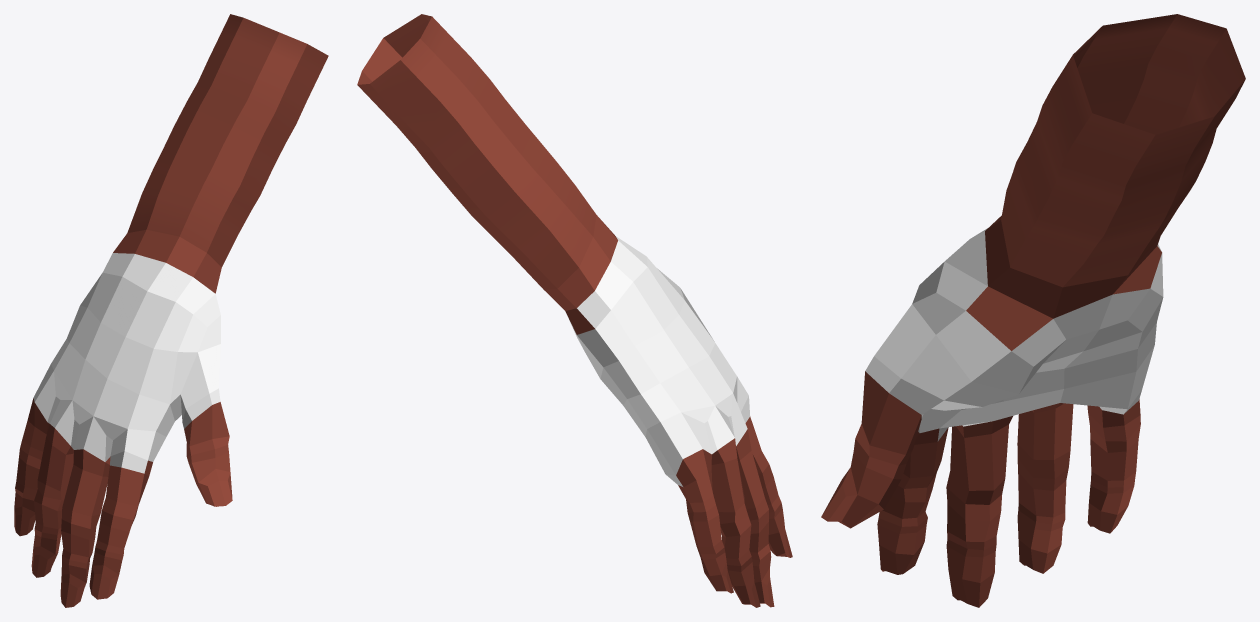
Rendered from hand_l.obj.
The picture shows the model from 3 angles, left to right: view 1: azimuth 30°, elevation 25°; view 2: azimuth 150°, elevation 25°; view 3: azimuth 270°, elevation 25°; orthographic projection. The views are drawn at different scales.
Parts seen in each view (by area): view 1: Plane005; view 2: Plane005; view 3: Plane005.
Part boxes in pixels (x1,y1,x2,y2): Plane005: [14, 14, 328, 607]; Plane005: [357, 14, 792, 607]; Plane005: [821, 14, 1245, 607].
Size of the model in its own units: 84.31 by 125 by 62.11.
